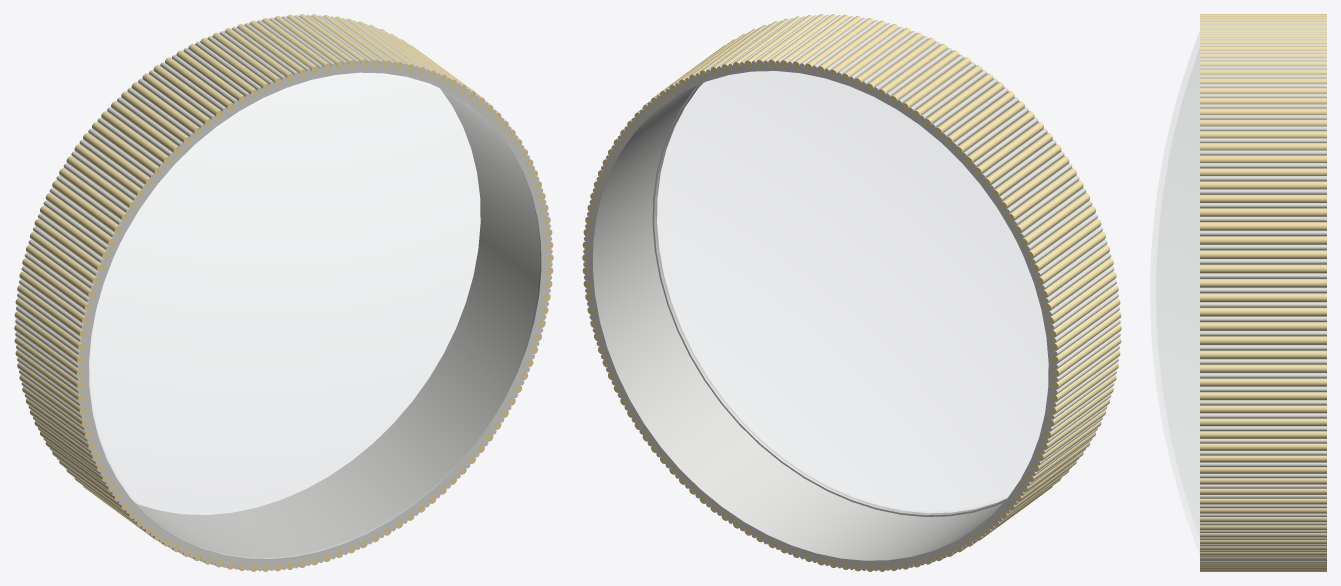
File: Assembled_Outer_Ring_SubAssembly.glb
3 views of the same model, side by side, from view 1: azimuth 30°, elevation 25°; view 2: azimuth 150°, elevation 25°; view 3: azimuth 270°, elevation 25° (orthographic).
Parts seen in each view (by area): view 1: OuterRing, m2d5x30 (×21); view 2: OuterRing, m2d5x30 (×21); view 3: m2d5x30 (×58), OuterRing, Glass_126d2mm.
Boxes of the visible parts, x1,y1,x2,y2 form: OuterRing: (15, 14, 552, 571); m2d5x30 (×21): (19, 50, 246, 324); OuterRing: (583, 14, 1120, 571); m2d5x30 (×21): (889, 50, 1116, 324); m2d5x30 (×58): (1200, 14, 1326, 570); OuterRing: (1200, 20, 1326, 567); Glass_126d2mm: (1156, 48, 1199, 537).
Bounding box in the file's own units: 0.1585 × 0.1585 × 0.0502.
